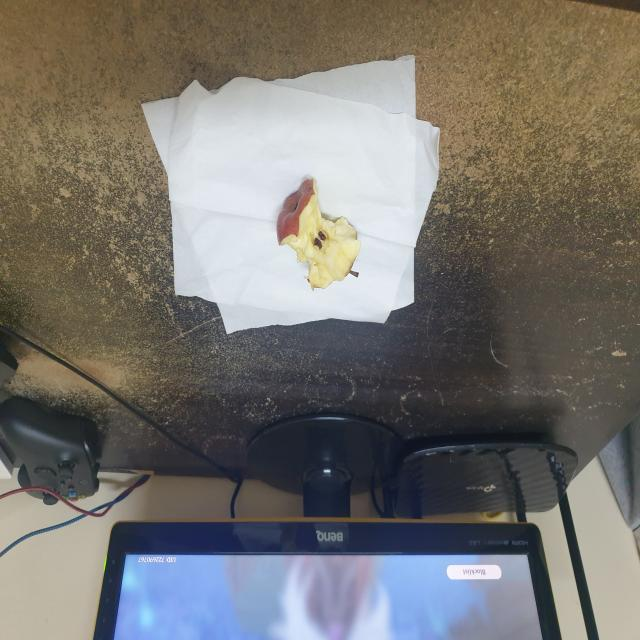apple: (266, 169, 369, 295)
